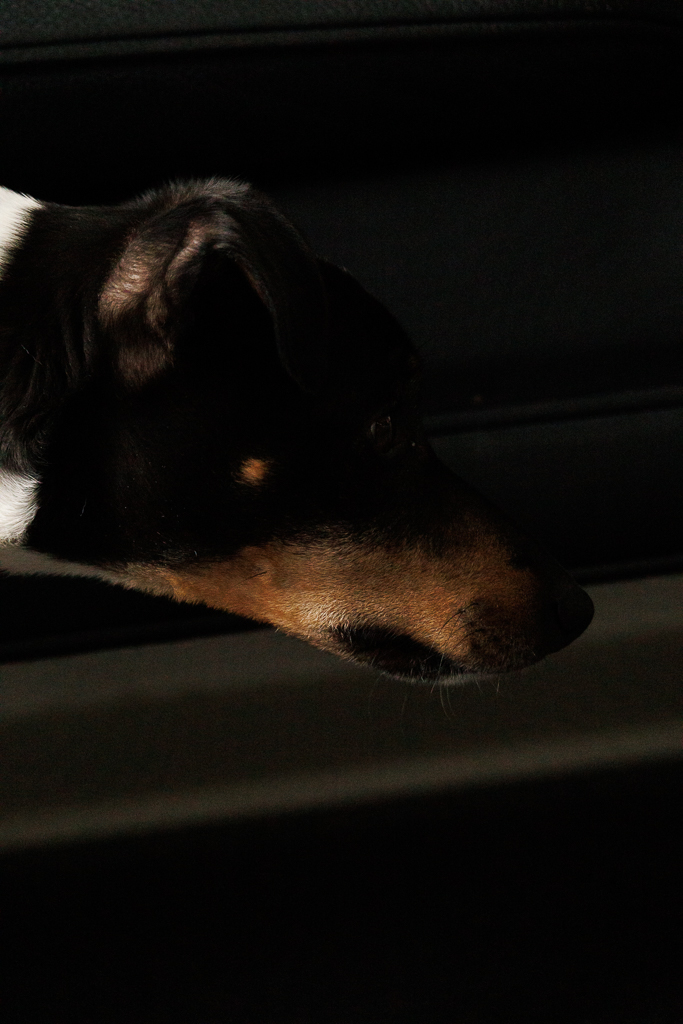Dog: (0, 121, 621, 744)
